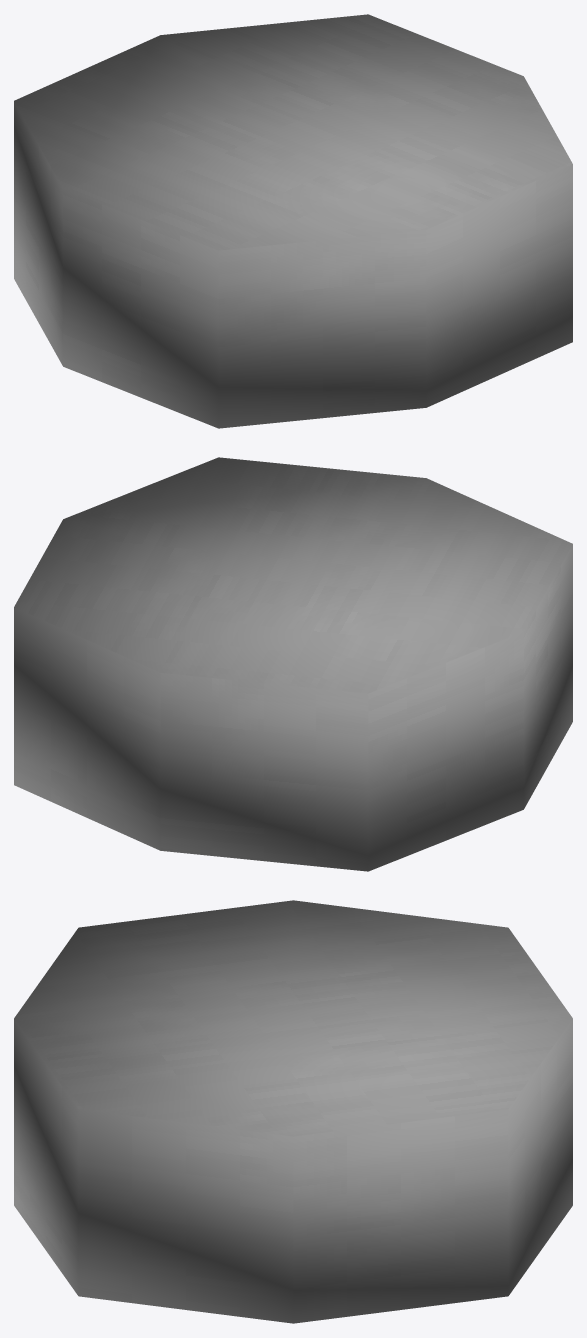
Rendered from lever_base.glb.
3 renders of one model, top to bottom at view 1: azimuth 30°, elevation 25°; view 2: azimuth 150°, elevation 25°; view 3: azimuth 270°, elevation 25°, orthographic. The views are drawn at different scales.
Visible parts, largest first — view 1: Lever Base; view 2: Lever Base; view 3: Lever Base.
Boxes of the visible parts, x1=… form: Lever Base: x1=14, y1=14, x2=572, y2=428; Lever Base: x1=14, y1=457, x2=572, y2=871; Lever Base: x1=14, y1=900, x2=572, y2=1323.
Bounding box in the file's own units: 0.1788 × 0.066 × 0.1788.
Materials: 1 (1 with a texture image).
